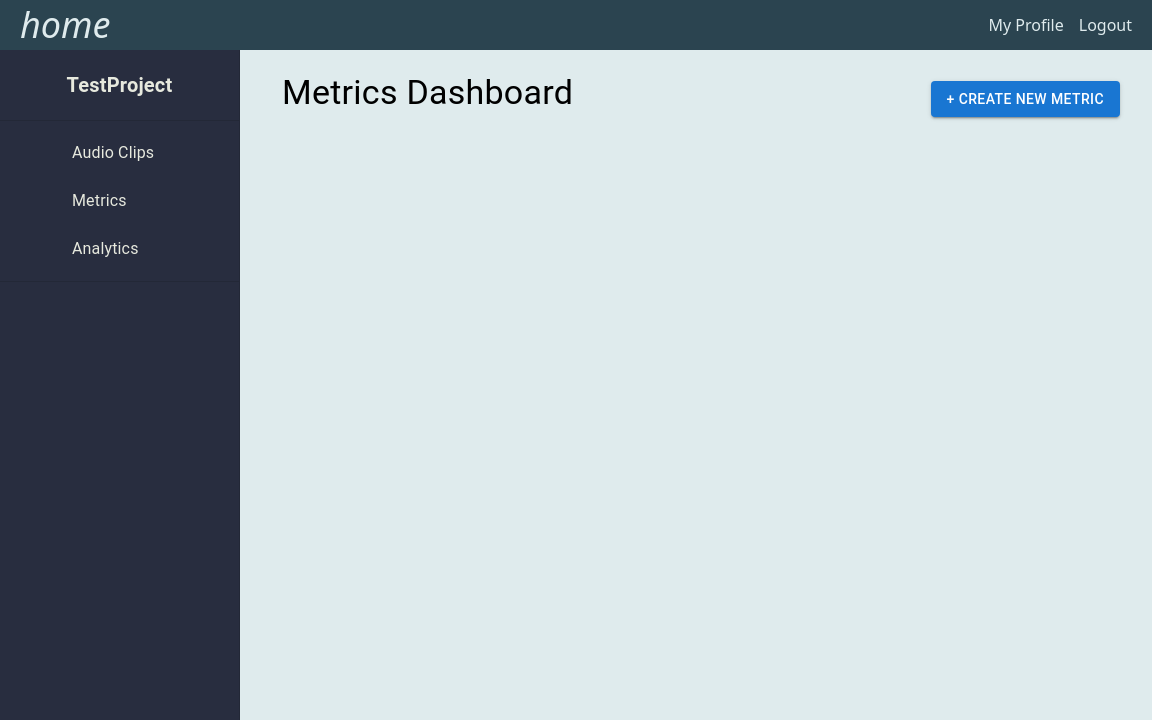
Test: Researcher Metrics Page › opens modal to create a new metric
Click the button "+ Create New Metric".
click(1025, 99)  # box [931,81,1120,117]
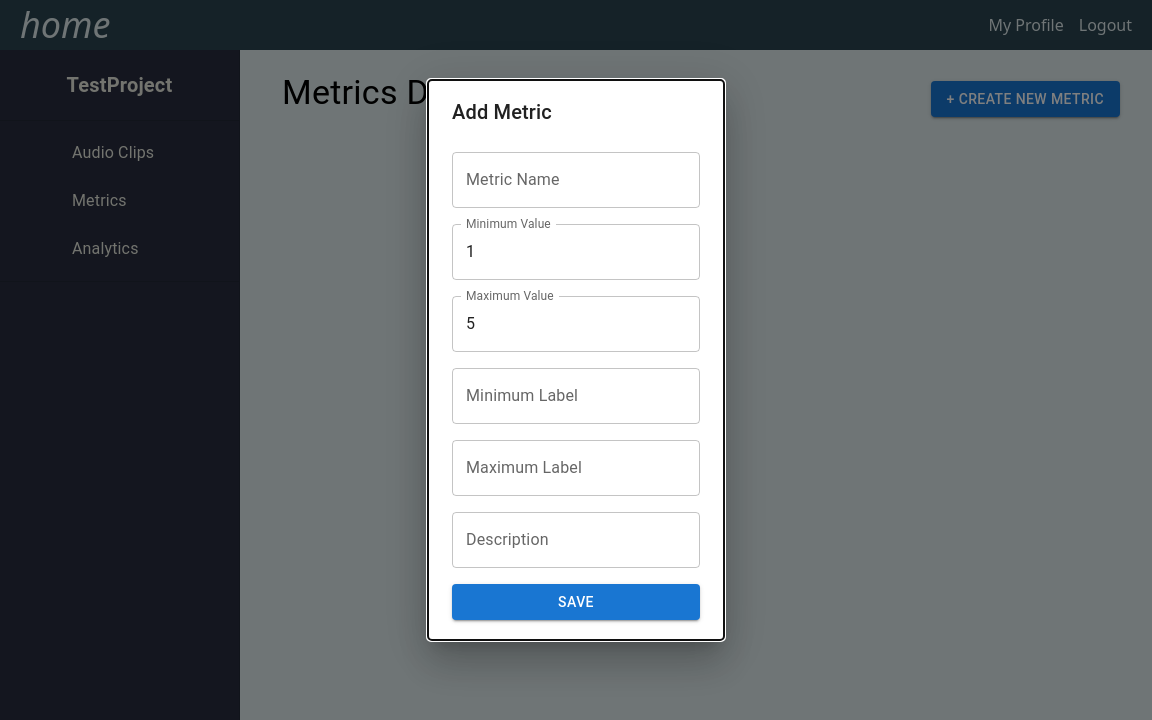
Now the dialog is shown, box [428,80,724,640]
Now the field labelled "Metric Name" is shown, box [452,152,700,208]
